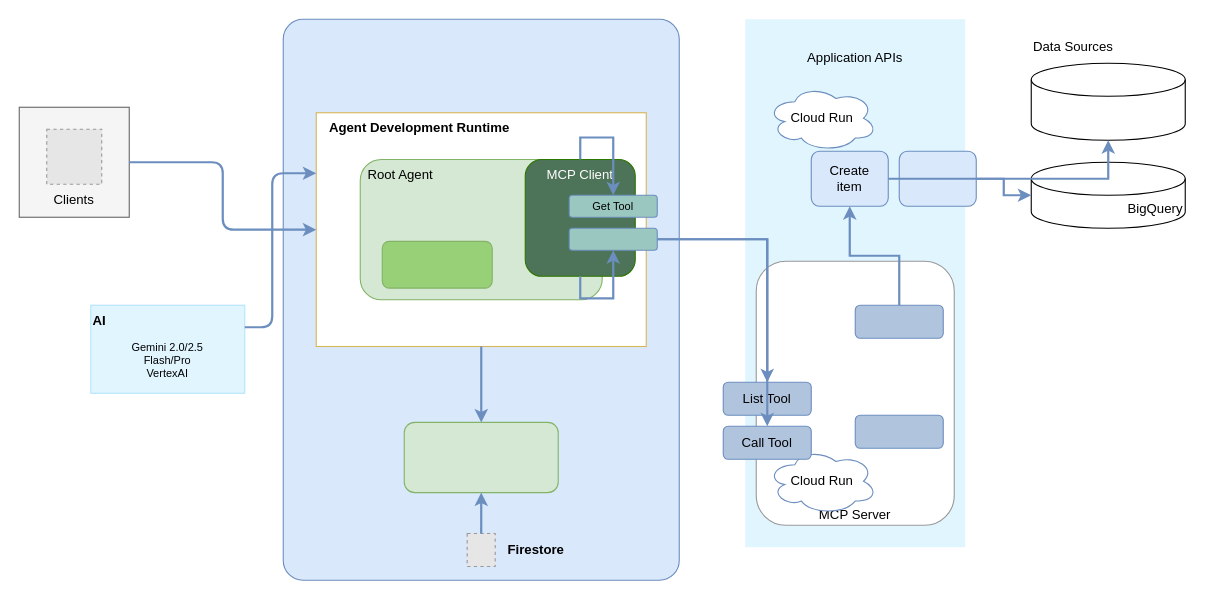
Image size: 1205x600. Some labels were removed from this diagram. Grey dashed boxes stand in for pictures. Here are the shapes that lost their labels. From the top down, the centre of each, then its label:
At point 1107,101: "GraphDB Spanner".
At point 937,178: "Update Event".
At point 612,238: "Invoke Tool".
At point 436,264: "Tools".
At point 898,321: "Create post".
At point 898,431: "Create Event".
At point 480,457: "Agent Engine Session Service".
